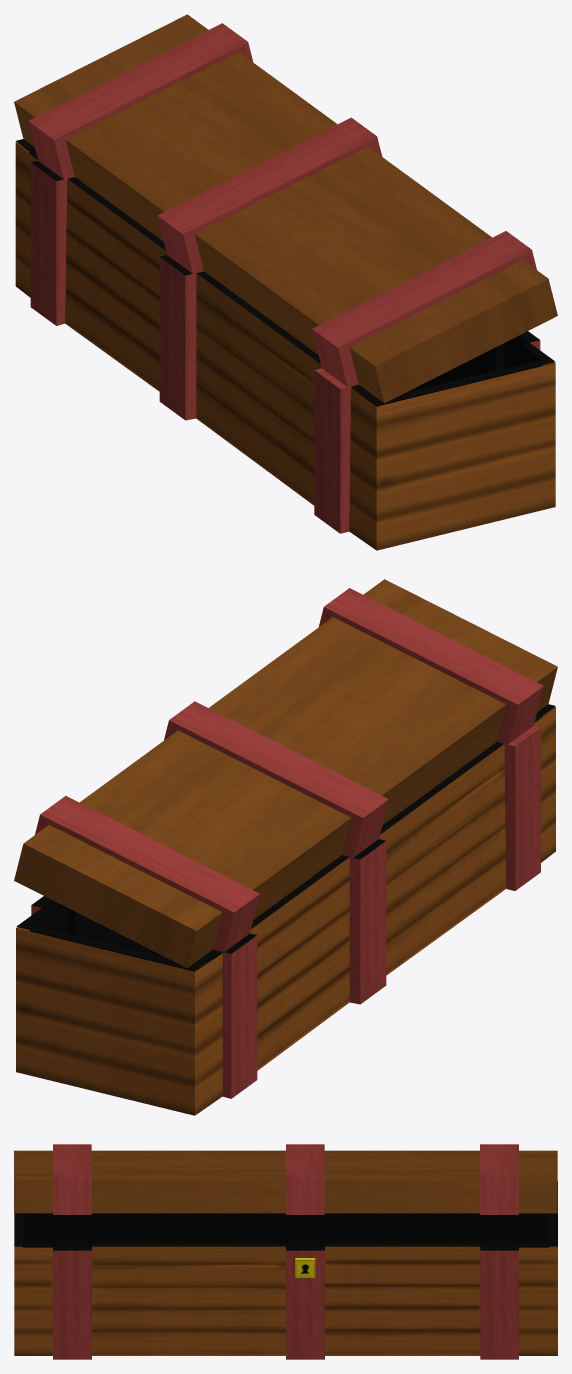
Rendered from OpenBox.fbx.
The picture shows the model from 3 angles, top to bottom: view 1: azimuth 30°, elevation 25°; view 2: azimuth 150°, elevation 25°; view 3: azimuth 270°, elevation 25°; orthographic projection. The views are drawn at different scales.
Parts seen in each view (by area): view 1: OpenBox; view 2: OpenBox; view 3: OpenBox.
Part boxes in pixels (box(x1,y1,x2,y2)): OpenBox: box(14, 14, 557, 550); OpenBox: box(14, 579, 557, 1115); OpenBox: box(14, 1144, 557, 1359).
Size of the model in its own units: 185 by 204 by 560.
